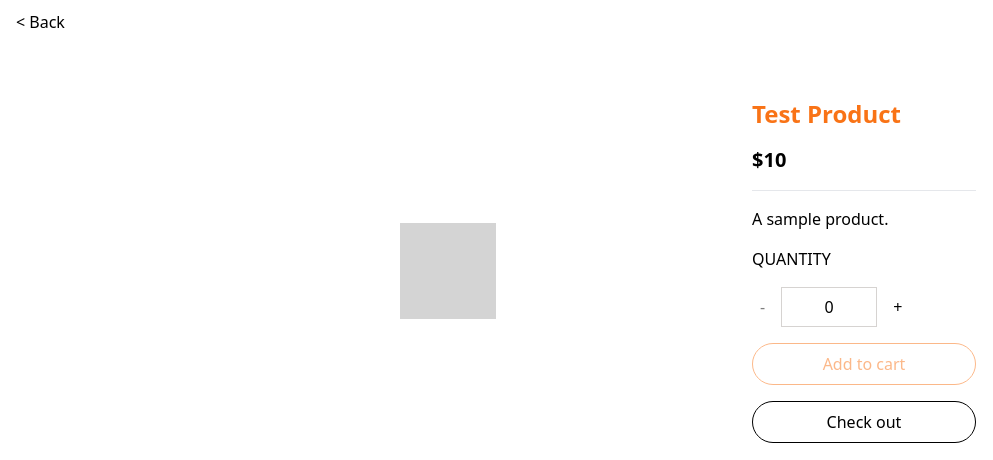
it: ProductPage Component › Clicking the decrement button decreases the quantity
Click the button with test id "increment-button": click(898, 307) [885,287,910,327]
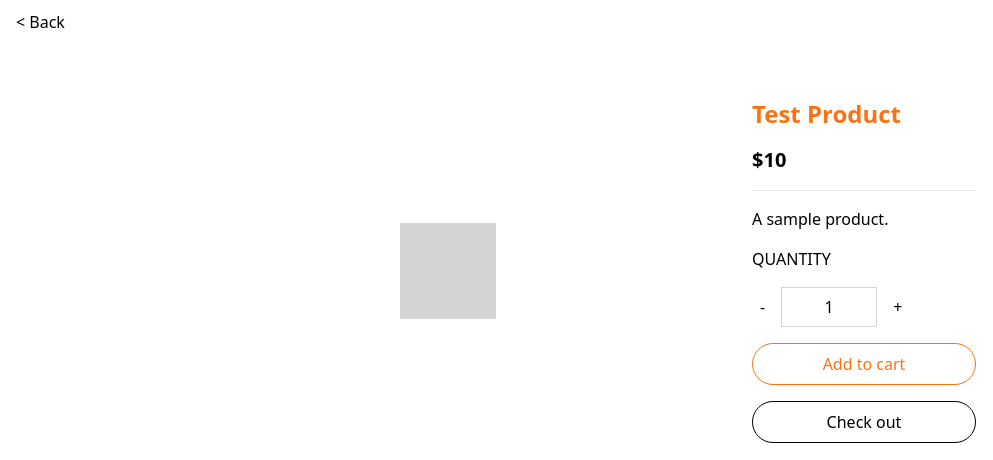
Click the button with test id "increment-button": click(898, 307) [885,287,910,327]
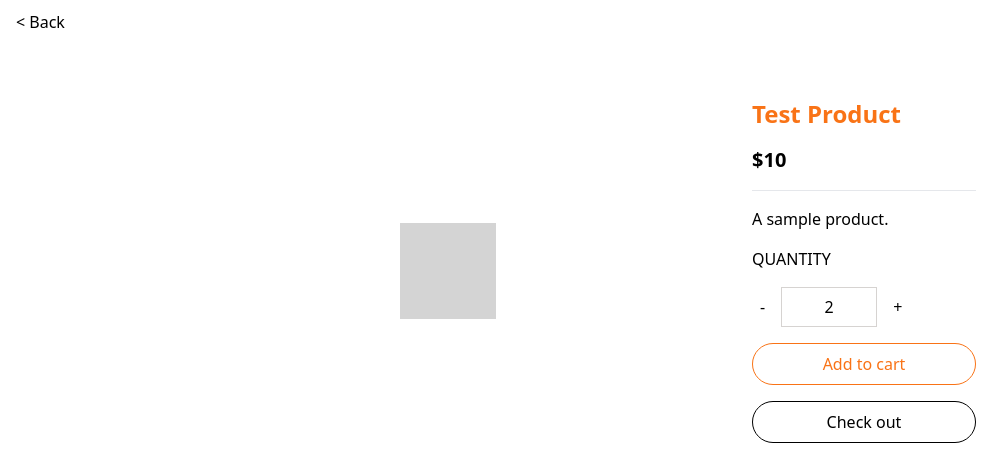
Click the button with test id "increment-button": click(898, 307) [885,287,910,327]
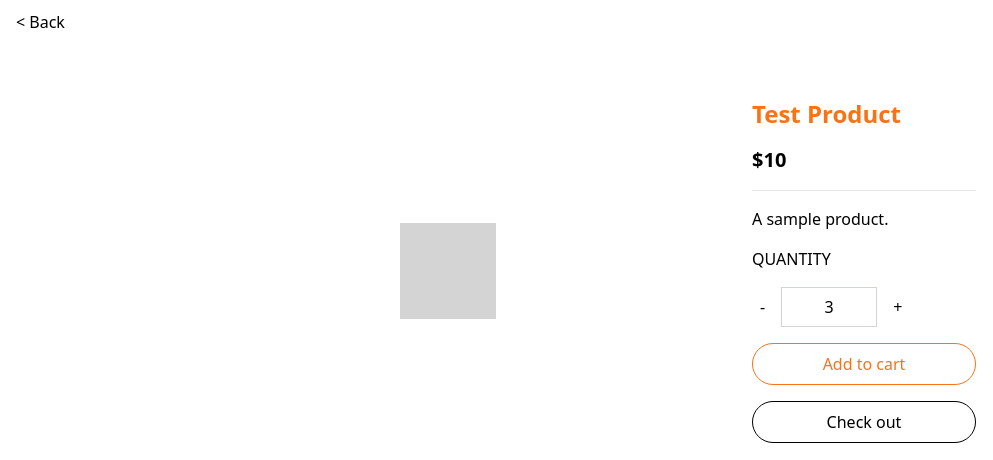
Click the button with test id "decrement-button": click(763, 307) [752,287,773,327]
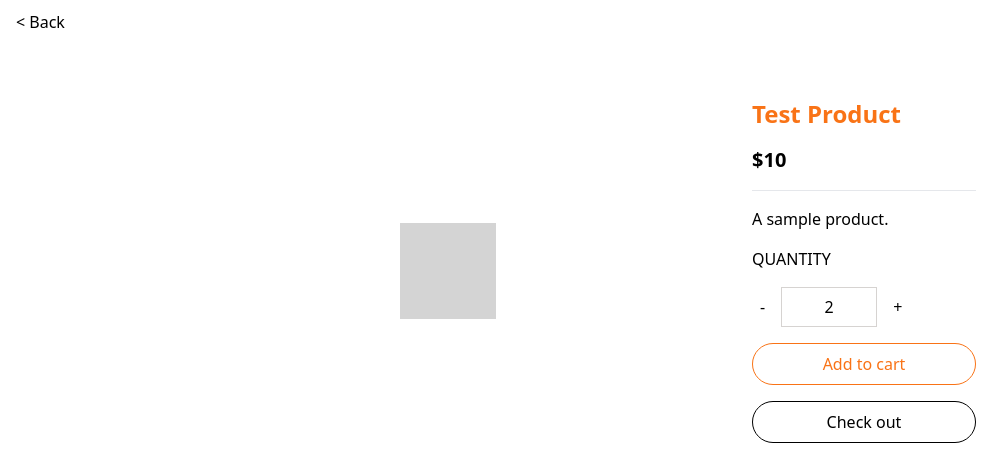
Expected: the number field holds "2", [781,287,877,327]
